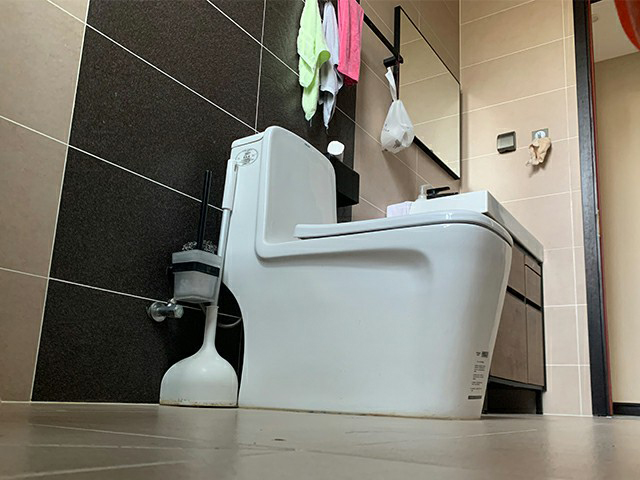cabinet: (481, 188, 547, 416)
closestool: (217, 124, 512, 420)
